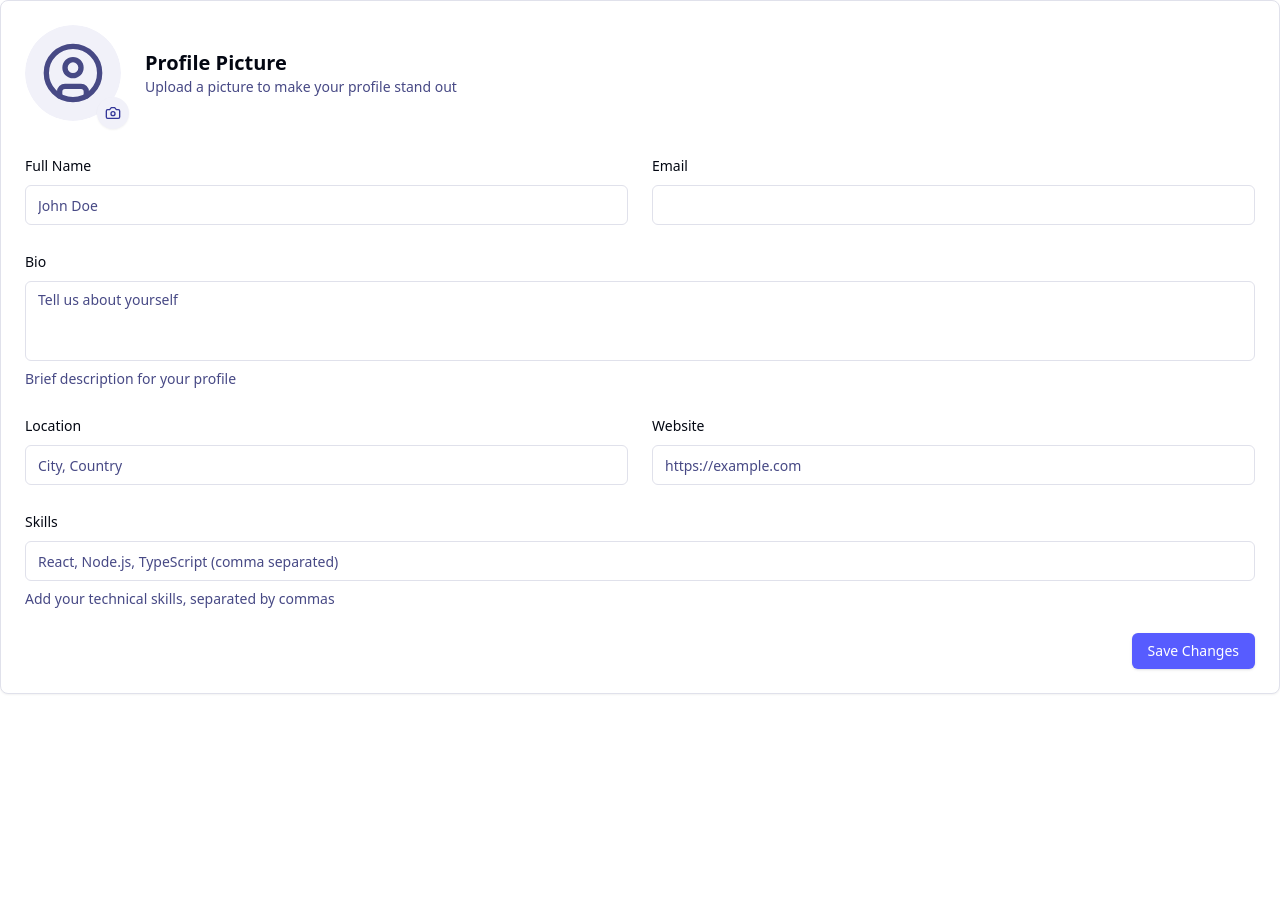
Test: ProfileForm › validates website URL format
Type "invalid-url" into the field with placeholder "https://example.com".
click(954, 465); type("invalid-url")  # box [652, 445, 1255, 485]
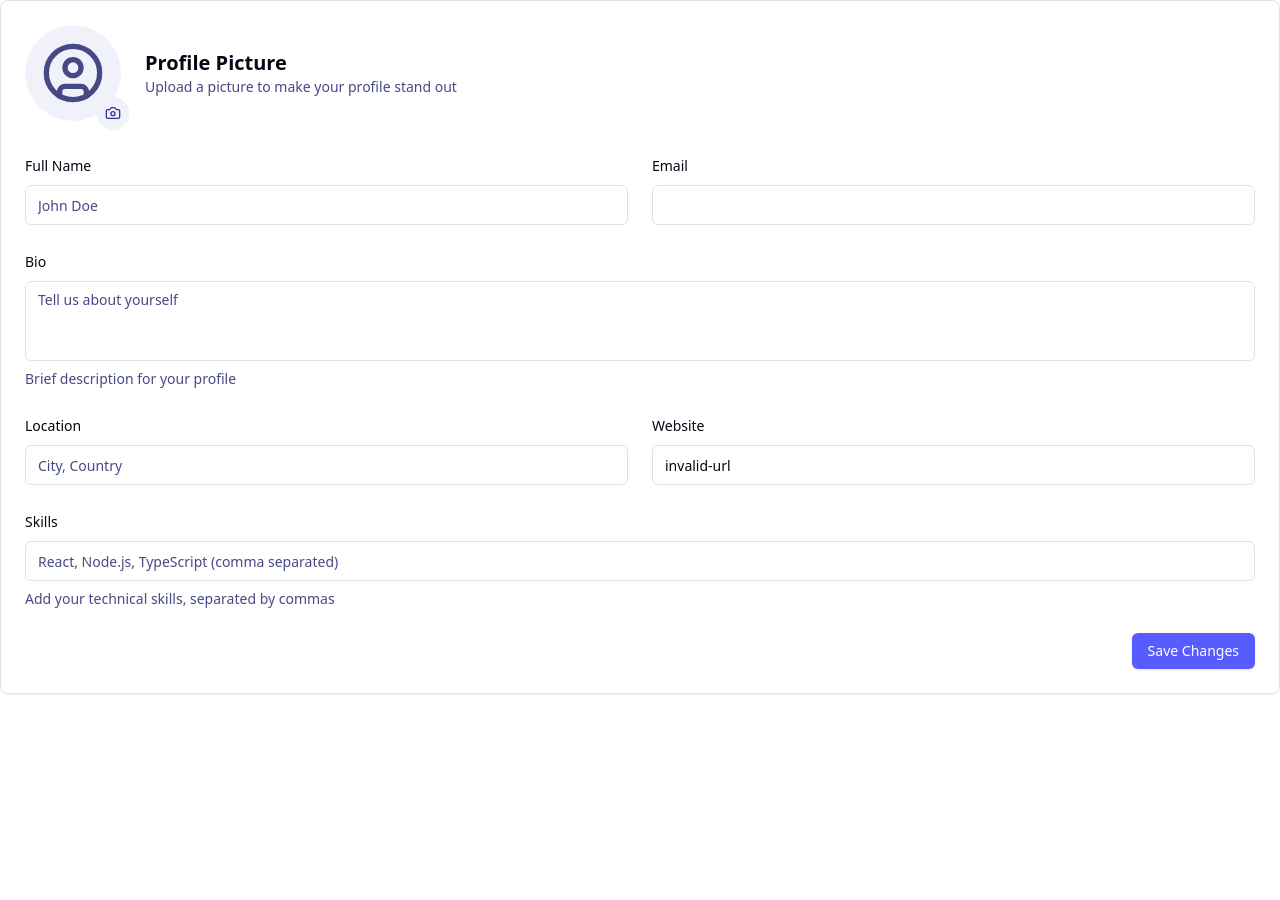
Click the button "Save Changes".
click(1193, 651)  # box [1132, 633, 1255, 669]
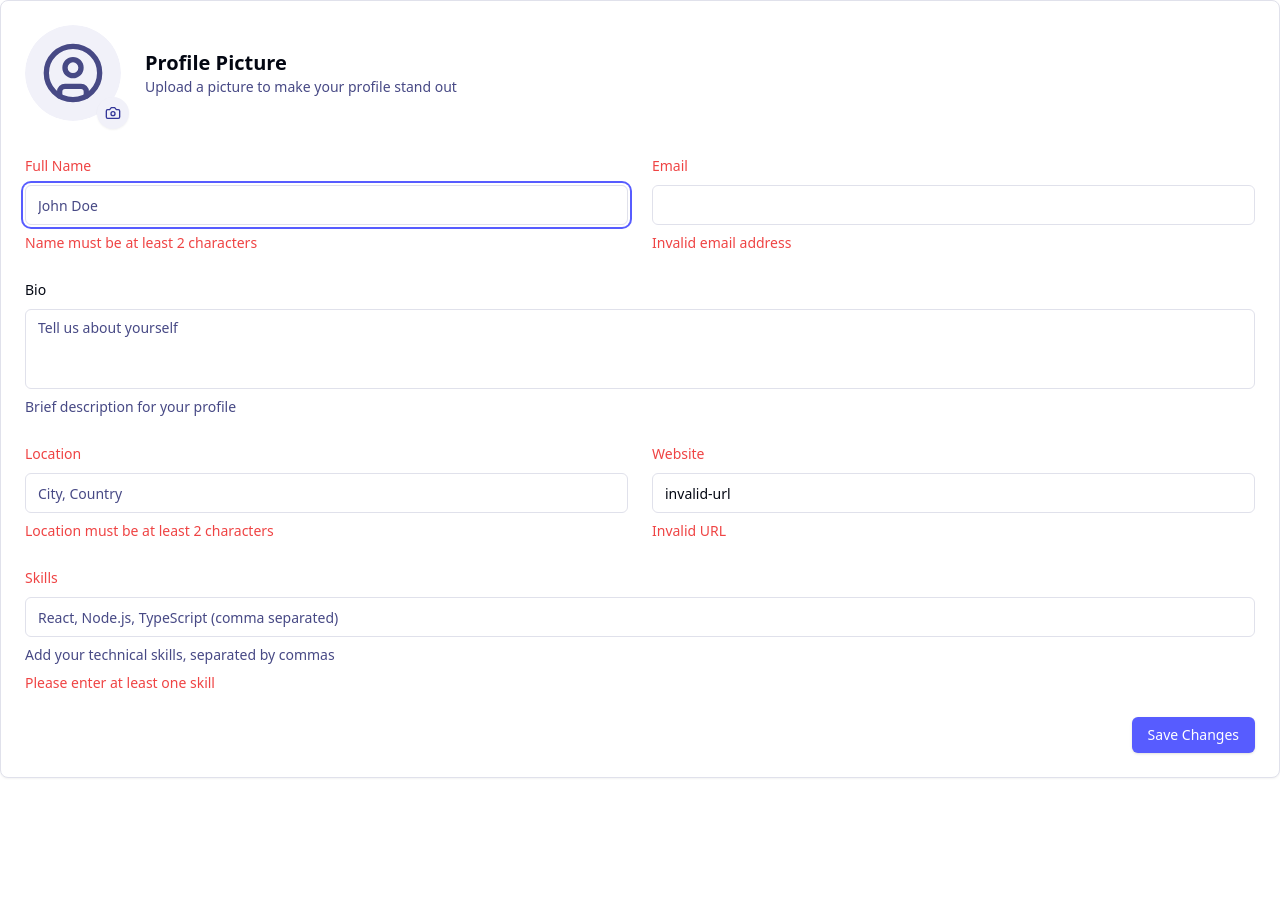
Check: the text "Invalid URL" is shown, box [652, 521, 726, 540]
